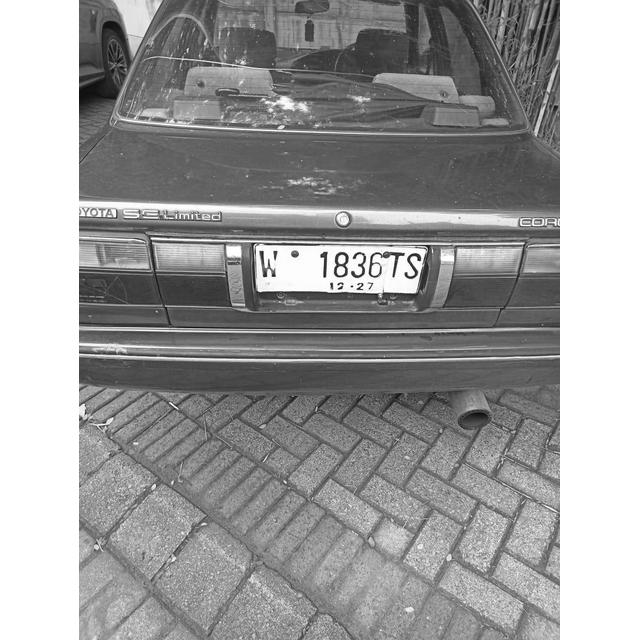license: (258, 248, 422, 289)
